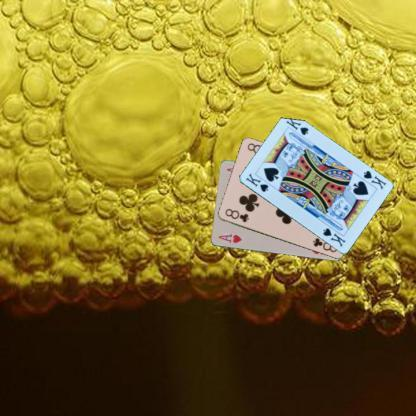8c: (223, 206, 250, 224)
Ah: (216, 231, 243, 245)
Ks: (360, 168, 388, 191), (243, 170, 269, 194)
